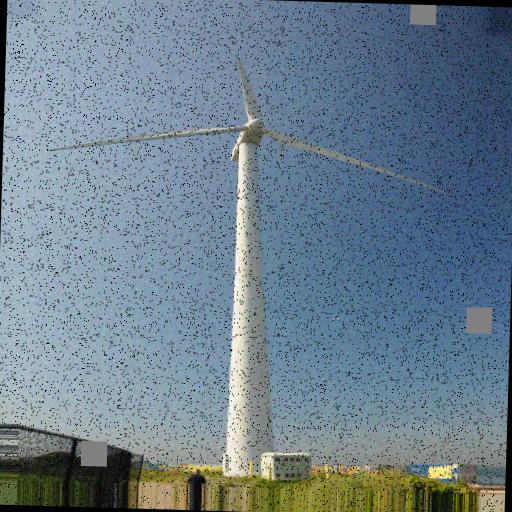wind turbine: (43, 54, 451, 456)
